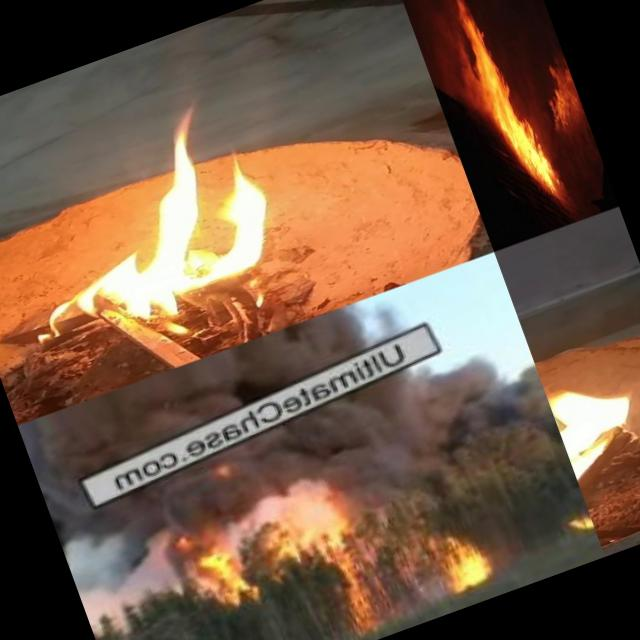fire: (0, 39, 331, 367), (494, 232, 640, 548), (416, 0, 575, 234), (321, 530, 409, 640), (187, 526, 258, 616), (436, 512, 511, 591), (528, 47, 590, 137)
smoke: (338, 340, 539, 514), (56, 488, 216, 636), (226, 436, 383, 572)
